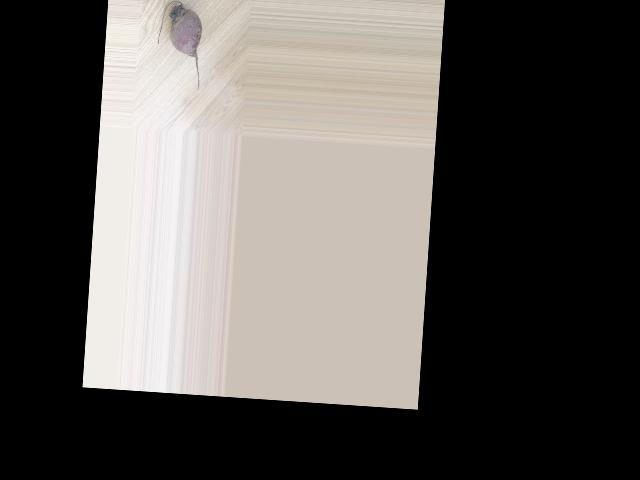beet: (155, 0, 205, 91)
